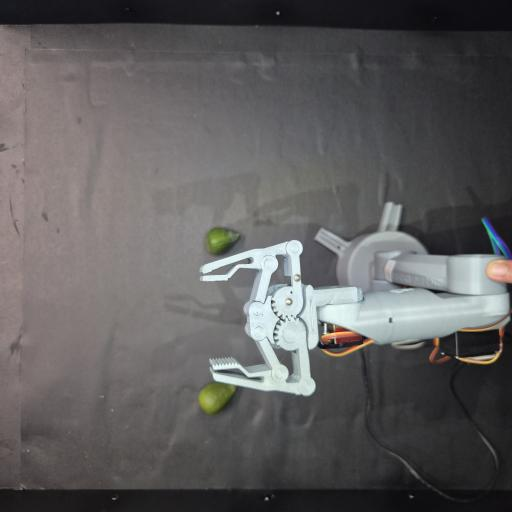higo: (198, 382, 237, 414), (205, 228, 240, 254)
